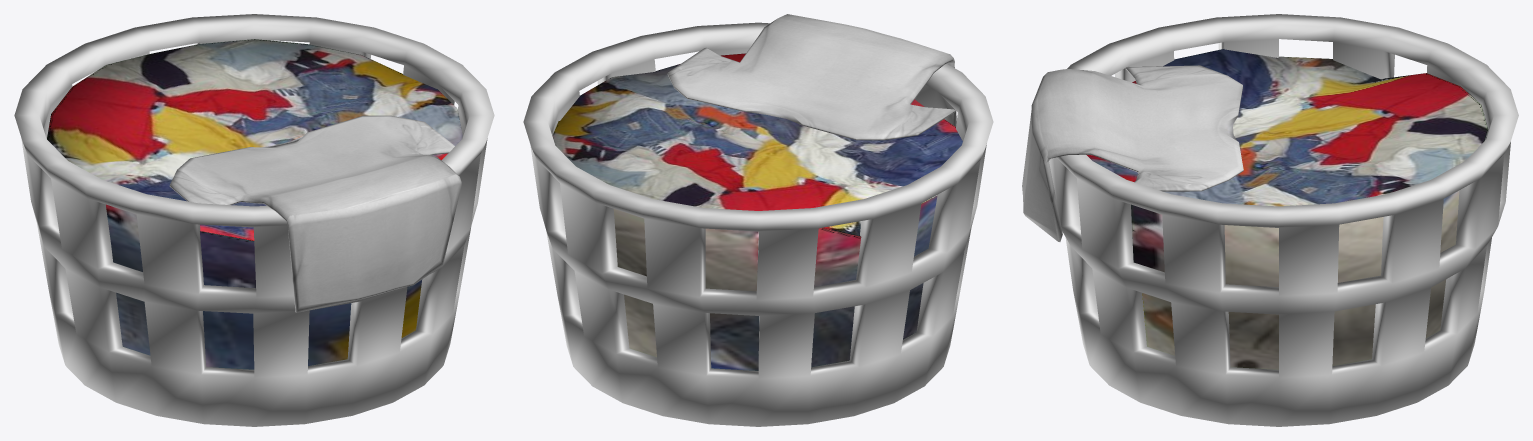
Rendered from Washing.FBX.
3 views of the same model, side by side, from view 1: azimuth 30°, elevation 25°; view 2: azimuth 150°, elevation 25°; view 3: azimuth 270°, elevation 25° (orthographic). The views are drawn at different scales.
Visible parts, largest first — view 1: Cone001, Object001, Box001; view 2: Cone001, Object001, Box001; view 3: Cone001, Object001, Box001.
Boxes of the visible parts, bbox=[...] form: Cone001: bbox=[14, 14, 494, 426]; Object001: bbox=[47, 39, 462, 369]; Box001: bbox=[169, 115, 461, 312]; Cone001: bbox=[523, 22, 993, 426]; Object001: bbox=[552, 53, 962, 370]; Box001: bbox=[667, 14, 956, 140]; Cone001: bbox=[1049, 14, 1518, 426]; Object001: bbox=[1086, 49, 1487, 369]; Box001: bbox=[1022, 65, 1243, 241].
Bounding box in the file's own units: 49.04 × 26.72 × 50.75.
